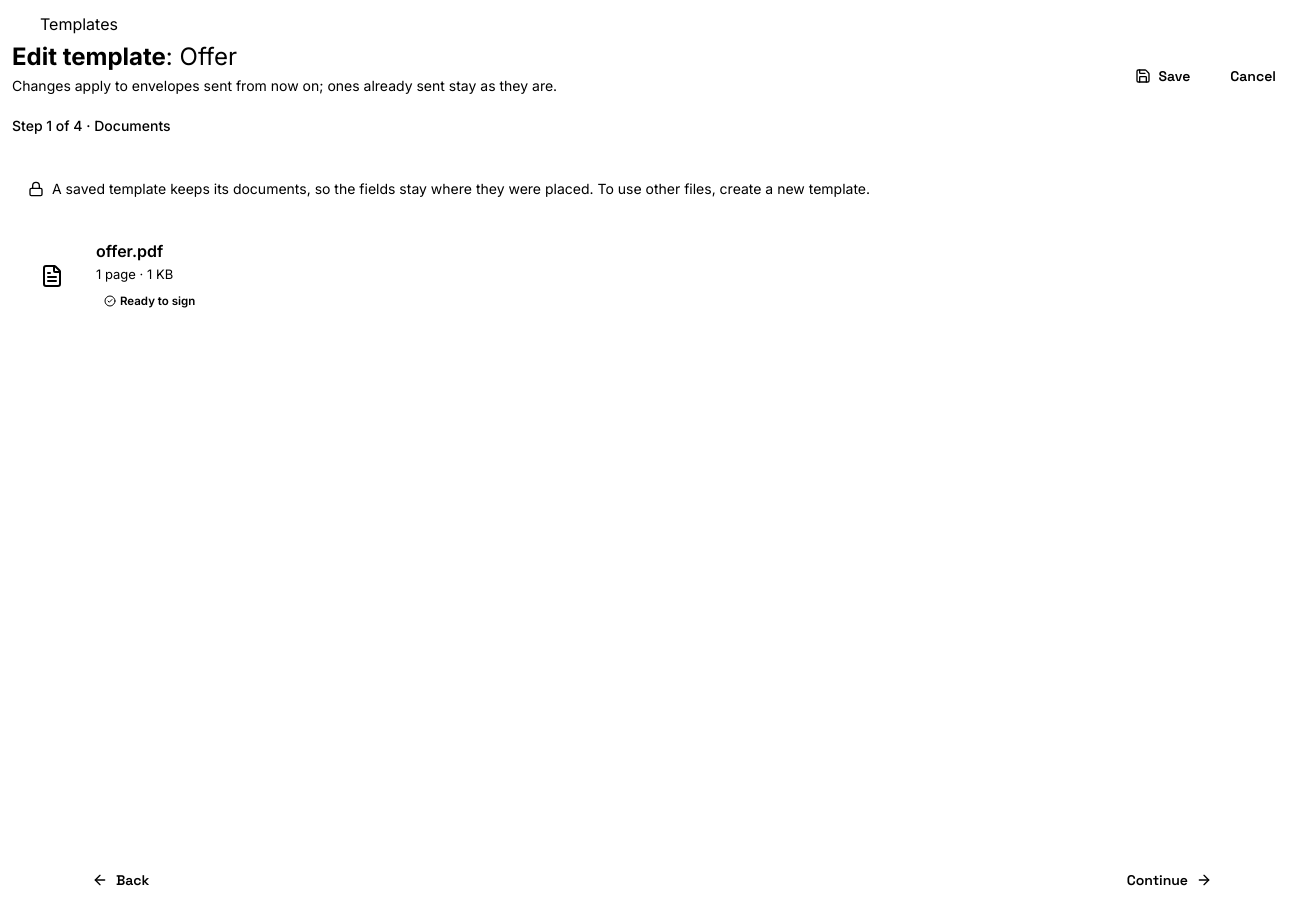
Scenario: TemplateEditor › edits a saved template from any step and shows server problems on their step
Check: the text "keeps its documents" is shown, box left=52, top=180, right=870, bottom=197
Click the button "Save".
click(1162, 76)  # box left=1118, top=56, right=1206, bottom=96
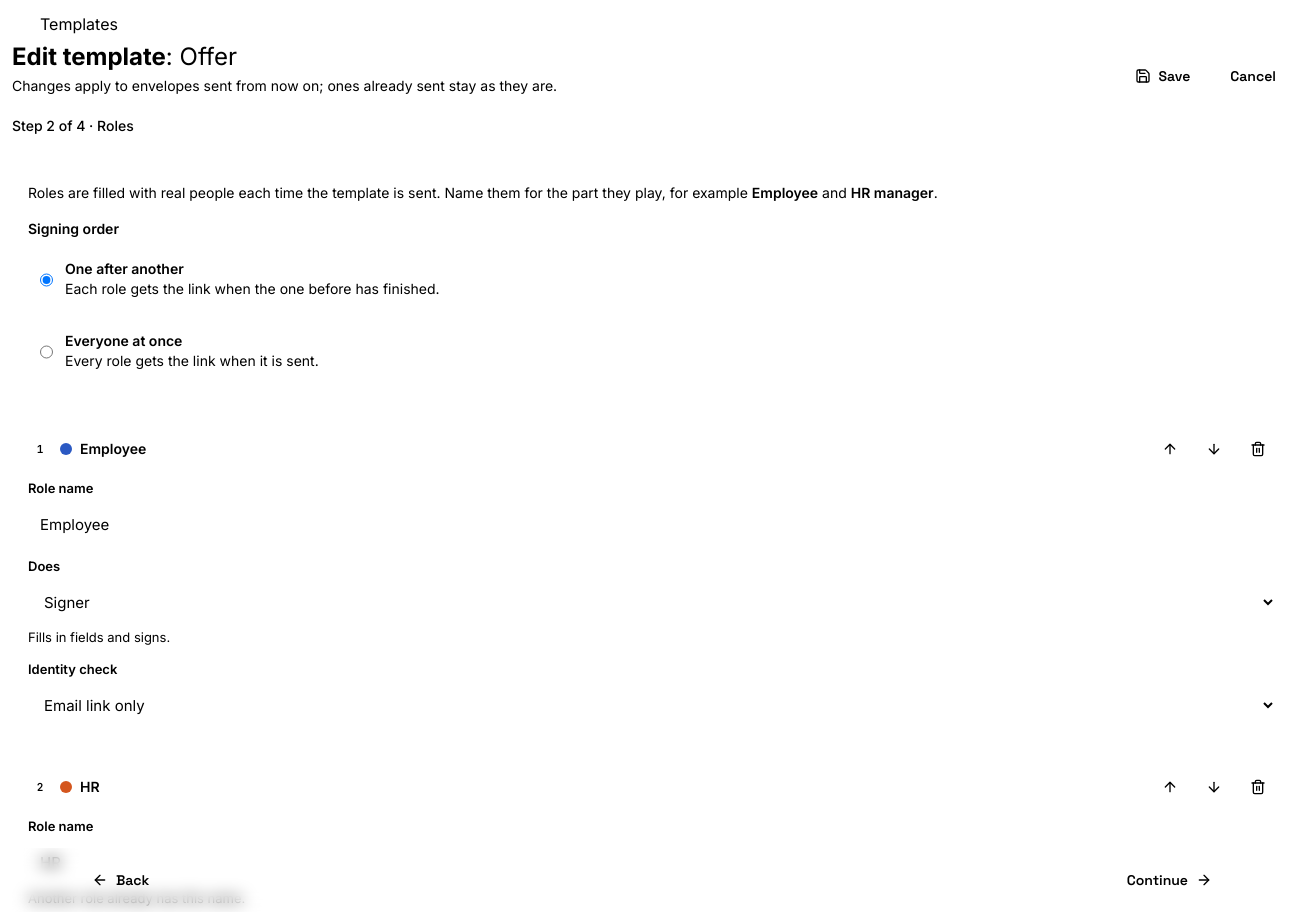
Check: the text "Another role already has this name." is shown, box left=28, top=890, right=245, bottom=906
Check: the number of fields labelled "Role name" is 2, box left=28, top=504, right=1276, bottom=544; left=28, top=842, right=1276, bottom=882
